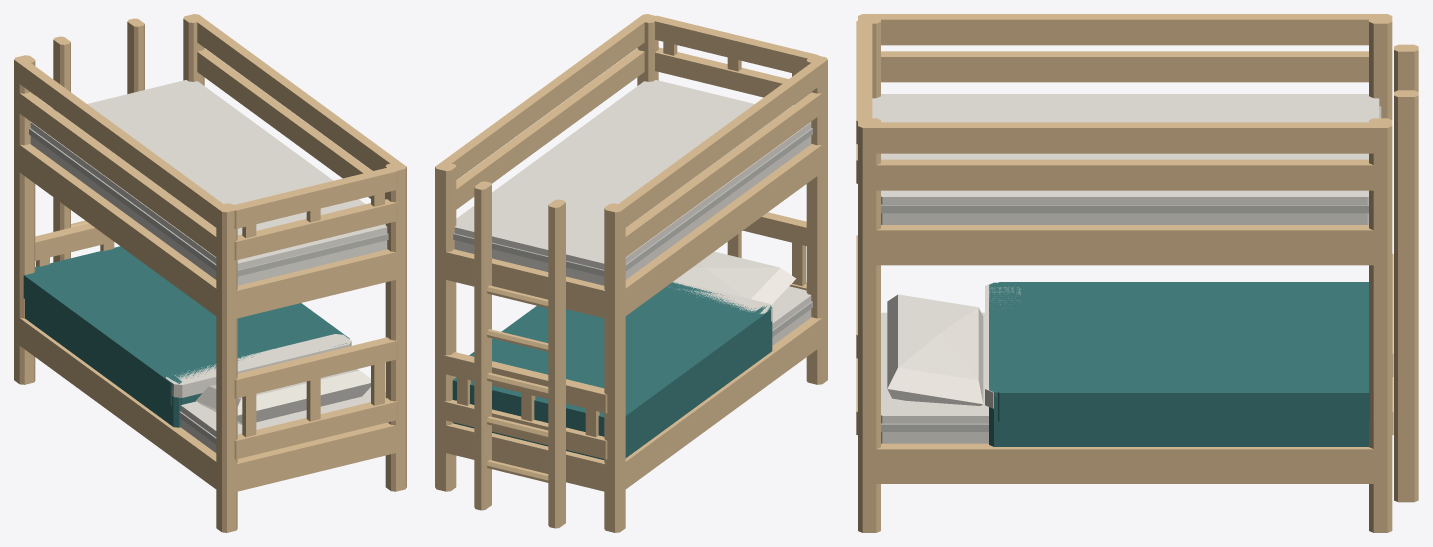
Rendered from SM_LPI_Bed_Bunk_01.fbx.
3 views of the same model, side by side, from view 1: azimuth 30°, elevation 25°; view 2: azimuth 150°, elevation 25°; view 3: azimuth 270°, elevation 25° (orthographic). The views are drawn at different scales.
Parts seen in each view (by area): view 1: SM_LPI_Bed_Bunk_01; view 2: SM_LPI_Bed_Bunk_01; view 3: SM_LPI_Bed_Bunk_01.
Boxes of the visible parts, x1,y1,x2,y2 form: SM_LPI_Bed_Bunk_01: [14, 14, 406, 532]; SM_LPI_Bed_Bunk_01: [435, 14, 827, 532]; SM_LPI_Bed_Bunk_01: [856, 14, 1418, 532].
Size of the model in its own units: 1.05 by 1.74 by 2.19.
